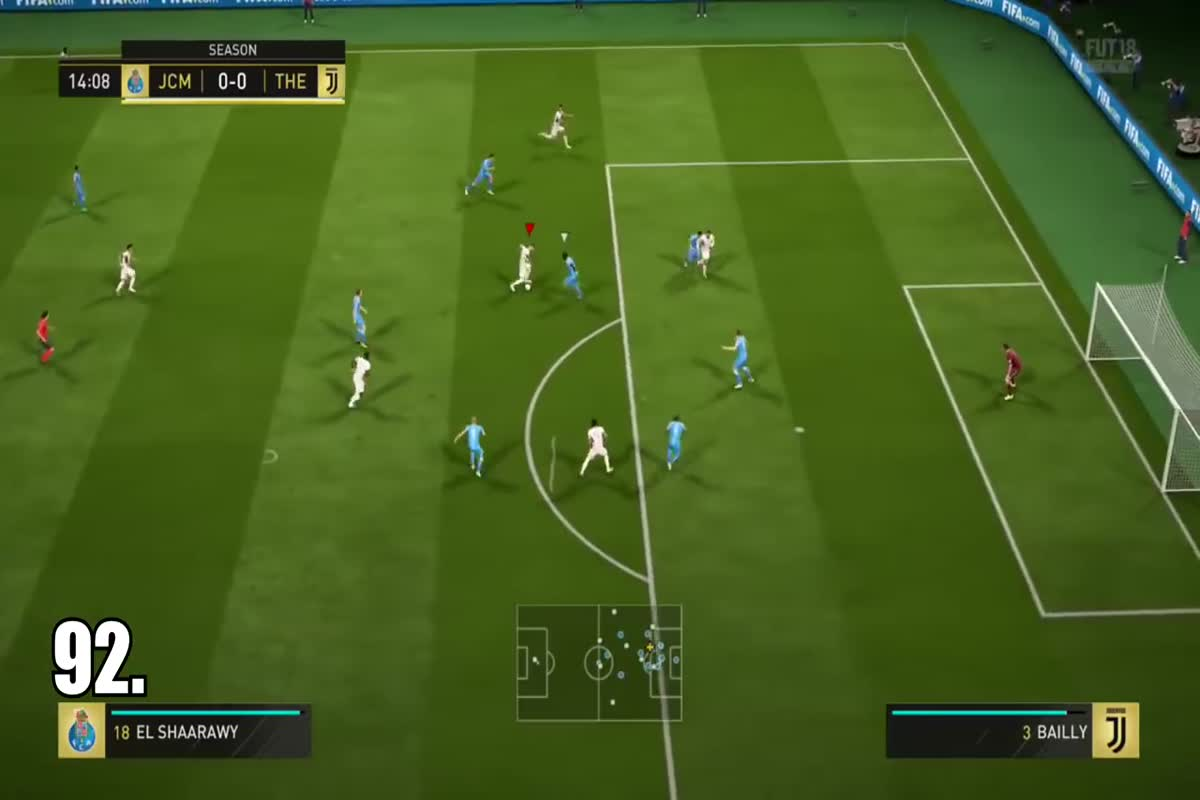ball: (517, 279, 543, 297)
